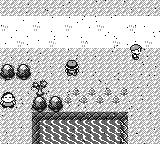captura: (40, 120, 120, 143)
main: (65, 60, 79, 76)
mo: (32, 112, 128, 143), (32, 80, 48, 96)
no-caminable: (0, 64, 31, 80), (32, 96, 63, 111)
npc: (0, 93, 16, 108), (130, 44, 143, 60)
